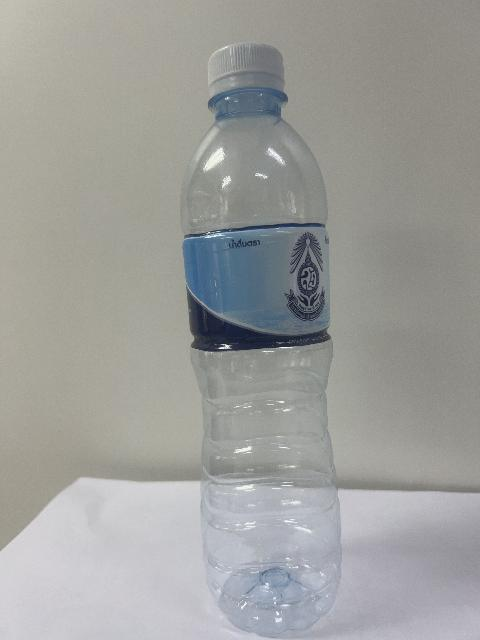bottle: (181, 43, 341, 636)
